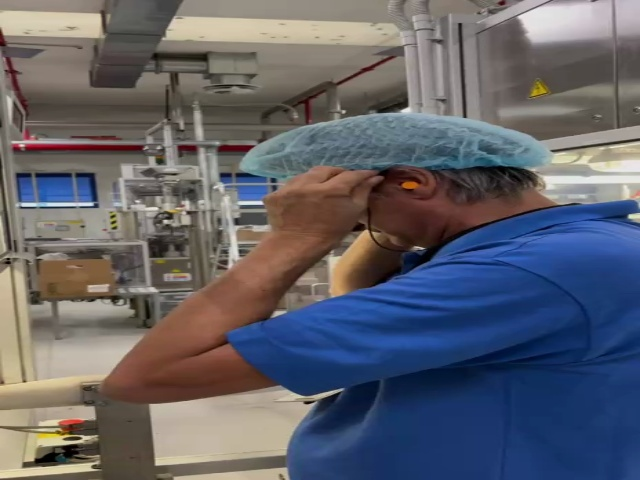Earplug: (379, 163, 437, 201)
Hairnet: (242, 111, 534, 177)
No_Helmet: (246, 112, 552, 173)
No_Vest: (292, 219, 640, 480)
Person: (102, 110, 640, 480)
